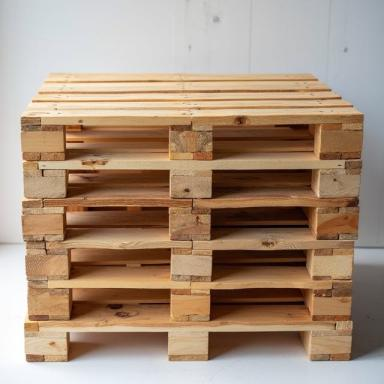pallet: (20, 72, 364, 160), (24, 312, 353, 362), (21, 198, 360, 241), (25, 240, 354, 282), (27, 280, 353, 321), (23, 159, 362, 198)
